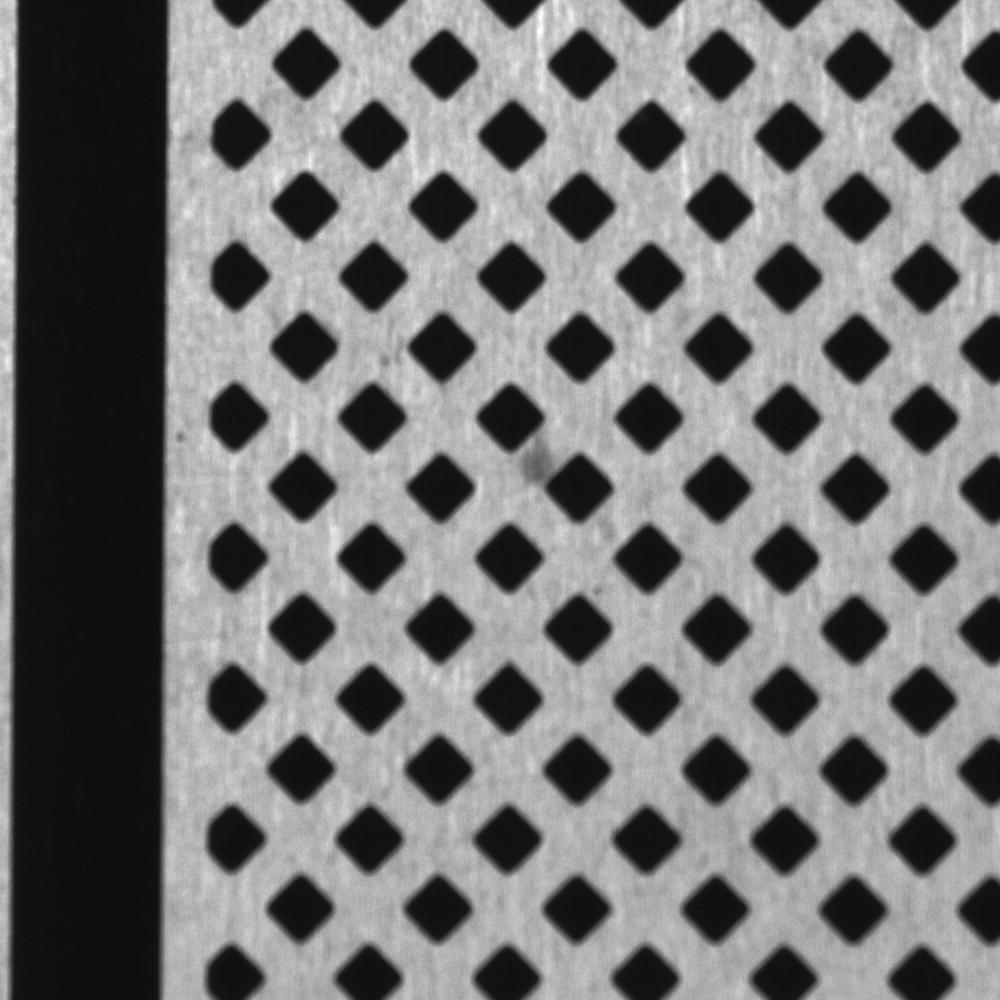Discolor: (507, 421, 576, 493)
